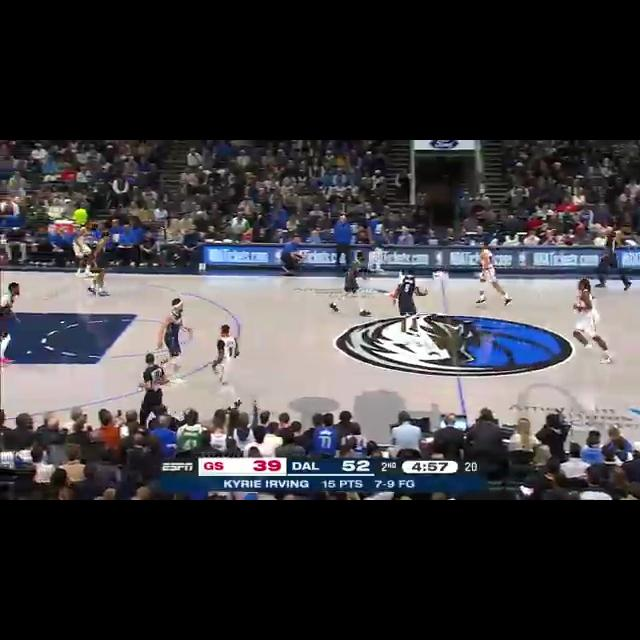Team-1-Player: (152, 290, 202, 380), (390, 260, 432, 336), (328, 251, 372, 323), (0, 278, 34, 364), (84, 230, 115, 302)
Team-2-Player: (557, 274, 621, 368), (202, 319, 254, 401), (469, 245, 519, 311), (68, 218, 100, 276)
